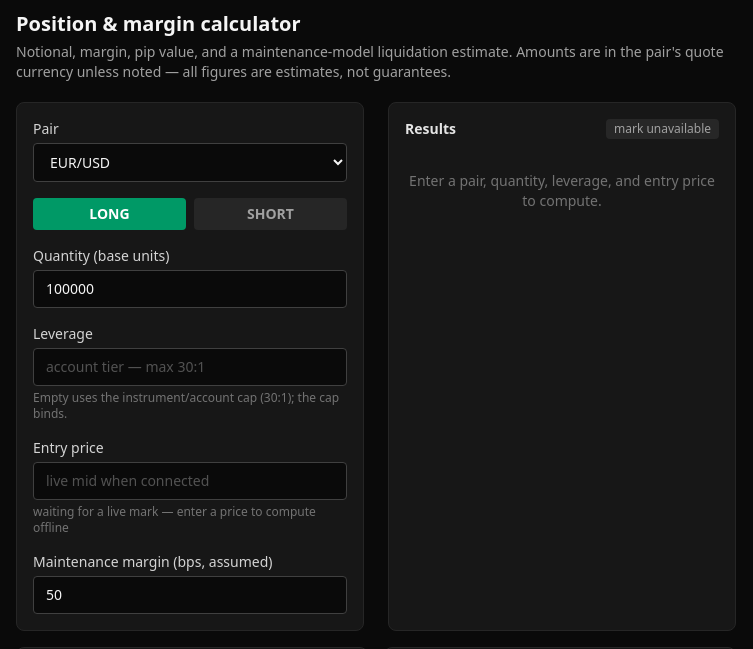
Test: CalculatorPage › shows "mark unavailable" and still computes from a manual entry
Expected: the text "mark unavailable" is shown, left=606, top=119, right=719, bottom=139
Type "1.2000" into the field labelled "Entry price".
click(190, 481); type("1.2000")  # box left=33, top=462, right=347, bottom=500
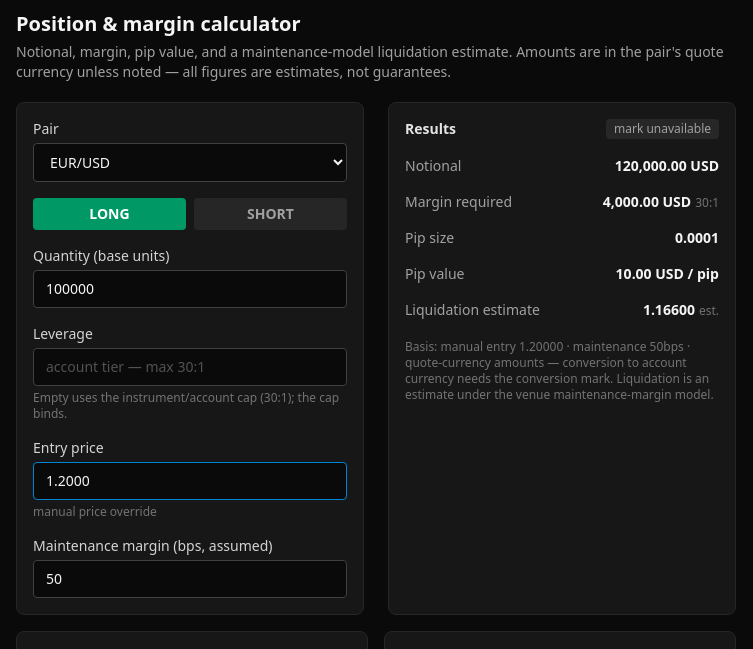
Result: the text "120,000.00 USD" is shown at left=615, top=156, right=719, bottom=175
Result: the text "manual entry 1.20000" is shown at left=440, top=338, right=563, bottom=355
